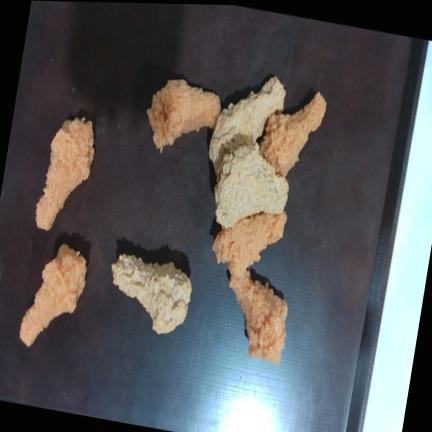chicken: (209, 77, 286, 175), (20, 245, 86, 346), (36, 118, 94, 230), (112, 254, 192, 334), (215, 145, 289, 228), (260, 92, 326, 176), (229, 270, 288, 363), (147, 80, 221, 152), (147, 80, 220, 152), (212, 211, 287, 275)
